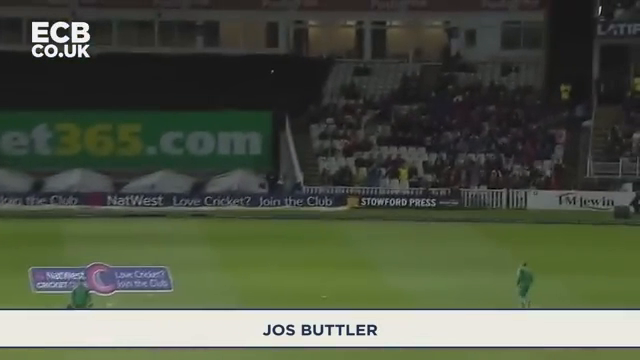fielder: (510, 254, 542, 309)
